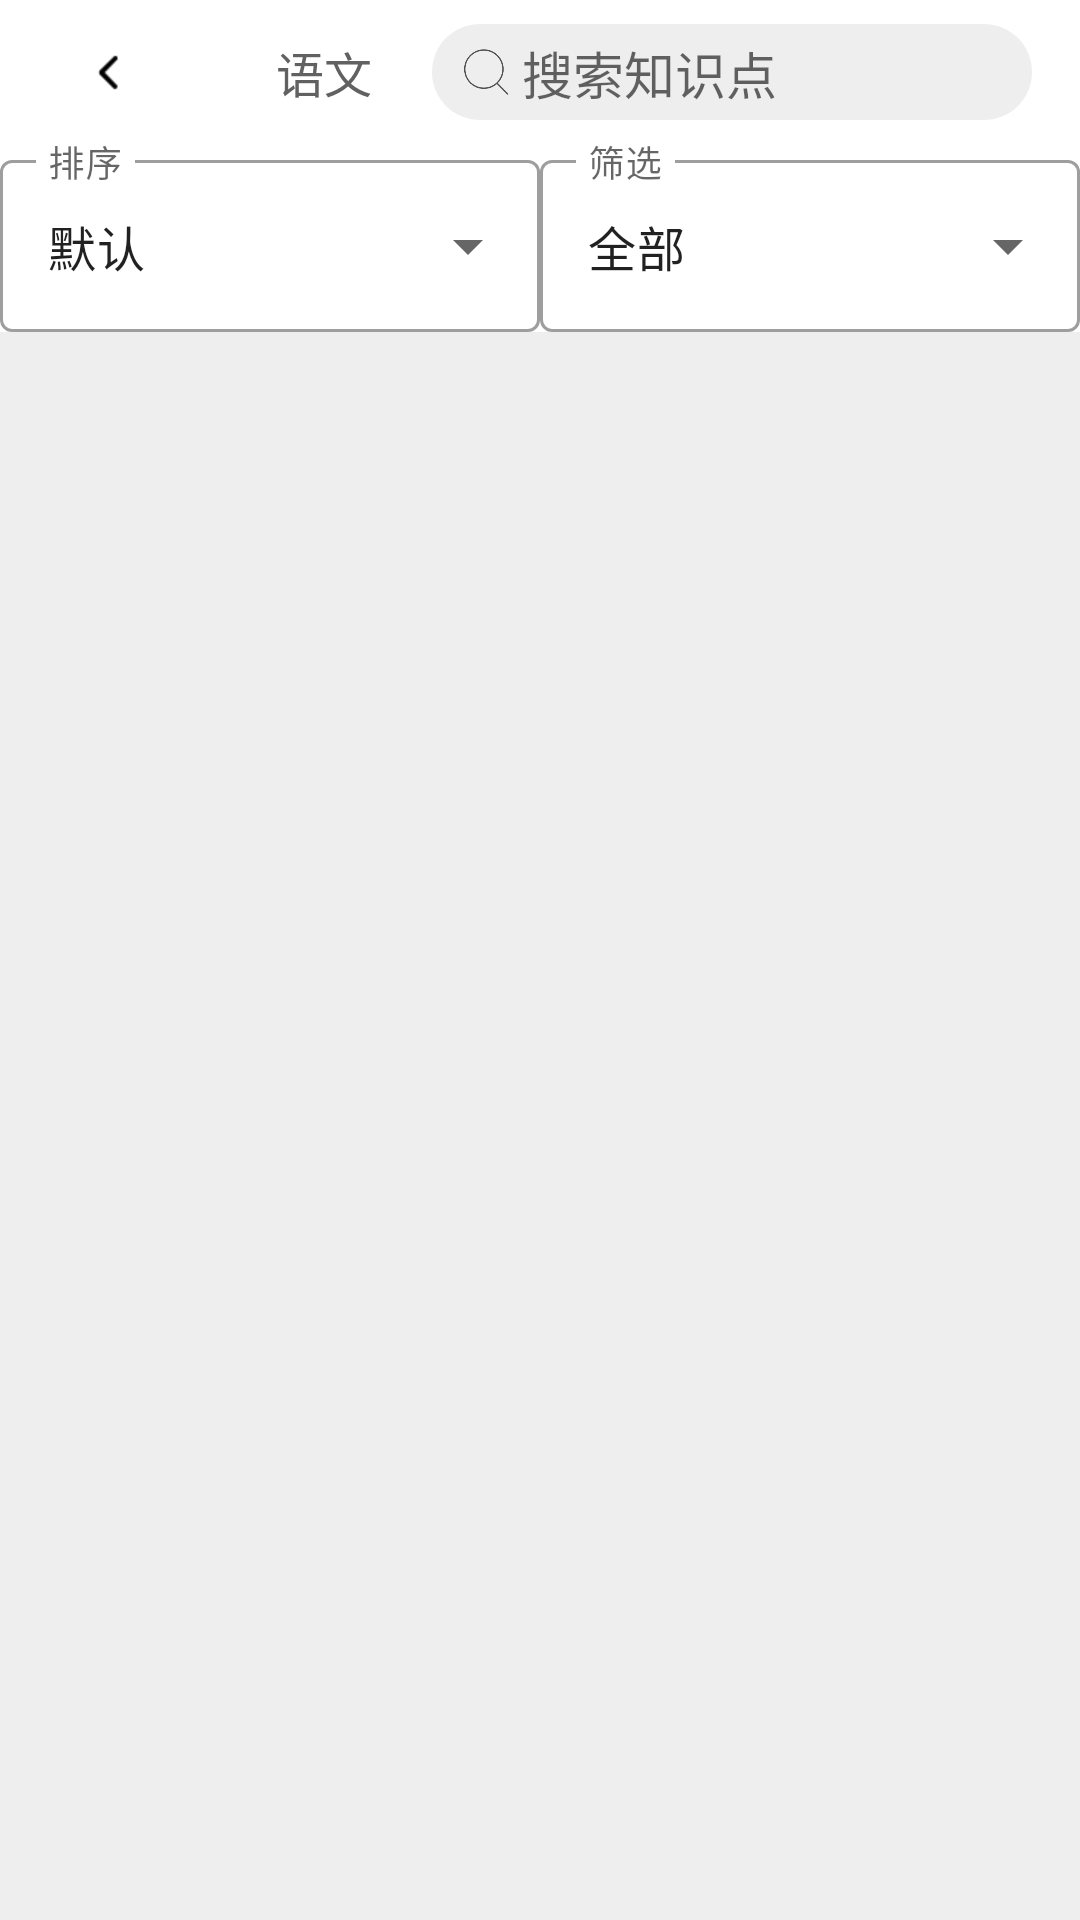

Where icons sit on this 1080px×1920px app screen, as (x1, y1, x2, y2):
返回: (98, 55, 118, 90)
